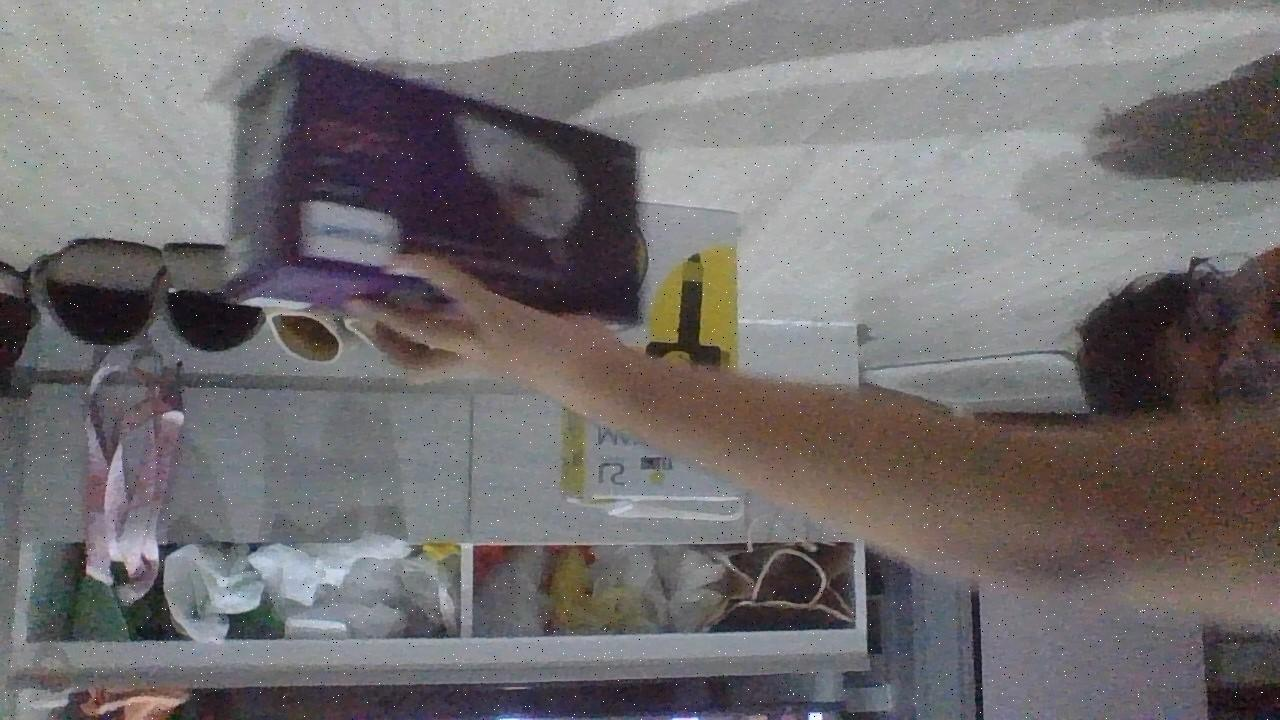Dryer: (559, 235, 750, 525)
IRON: (217, 48, 651, 339)
